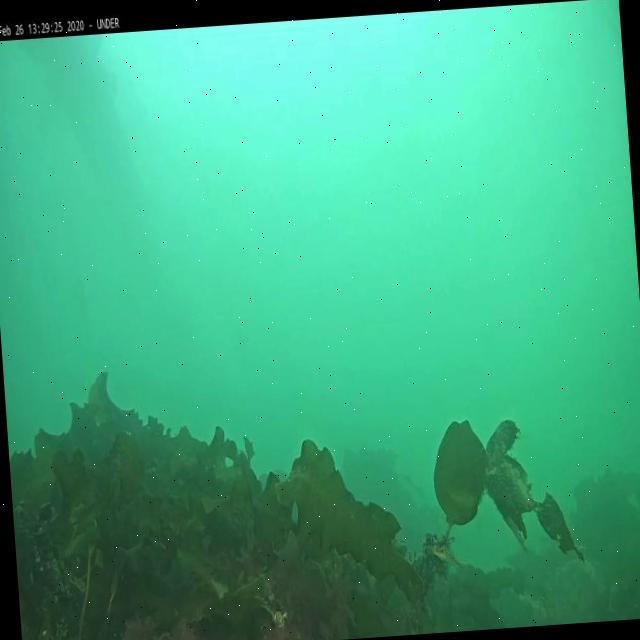fish: (430, 544, 462, 571)
